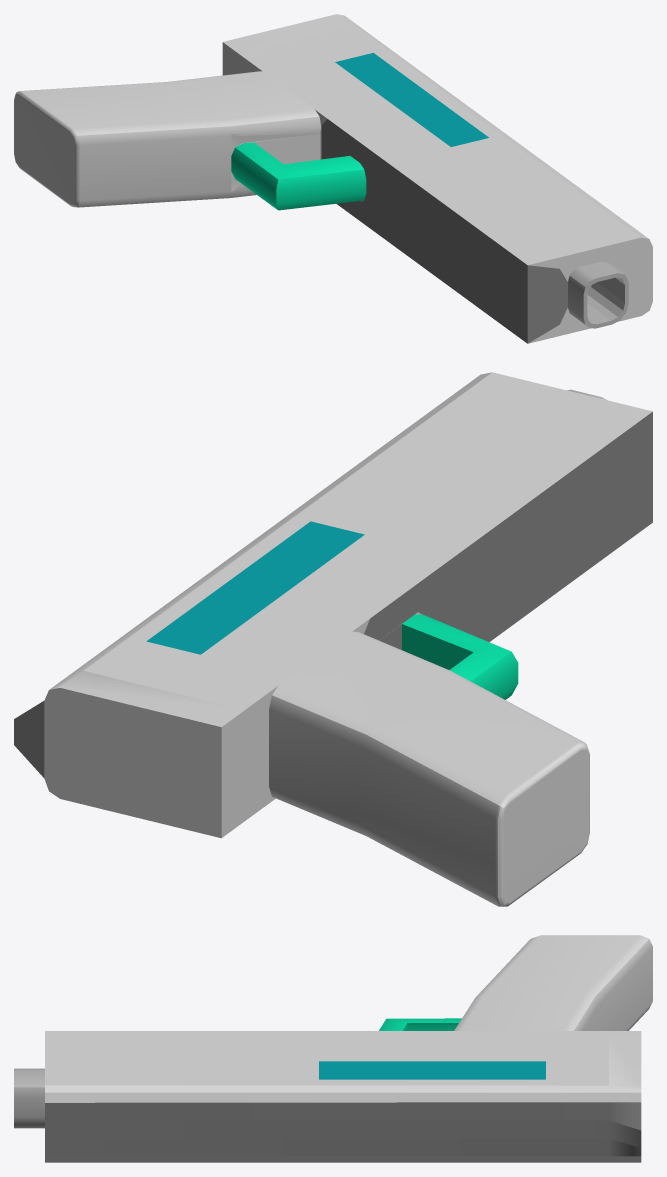
Rendered from TechnoPistole.fbx.
The picture shows the model from 3 angles, top to bottom: view 1: azimuth 30°, elevation 25°; view 2: azimuth 150°, elevation 25°; view 3: azimuth 270°, elevation 25°; orthographic projection. The views are drawn at different scales.
Visible parts, largest first — view 1: Pistole; view 2: Pistole; view 3: Pistole.
Boxes of the visible parts, x1,y1,x2,y2 form: Pistole: (14, 14, 652, 343); Pistole: (14, 372, 652, 906); Pistole: (14, 935, 652, 1162).
Bounding box in the file's own units: 0.696 × 0.149 × 1.12.
